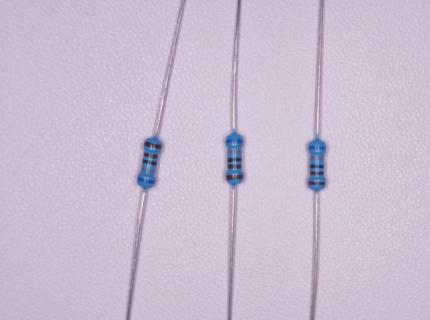Black band: (142, 159, 157, 166), (227, 157, 242, 163), (310, 164, 324, 169)
Blue band: (137, 176, 155, 185), (308, 145, 326, 150), (225, 139, 243, 143)
Brown band: (144, 141, 163, 150), (144, 152, 159, 160), (225, 175, 244, 180), (308, 181, 325, 186), (228, 164, 242, 169), (309, 171, 325, 175)
Grey band: (141, 167, 156, 174), (310, 157, 324, 161), (228, 150, 242, 154)
